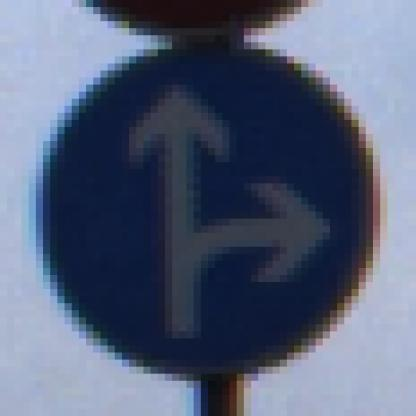Straight or Right: (37, 43, 381, 382)
